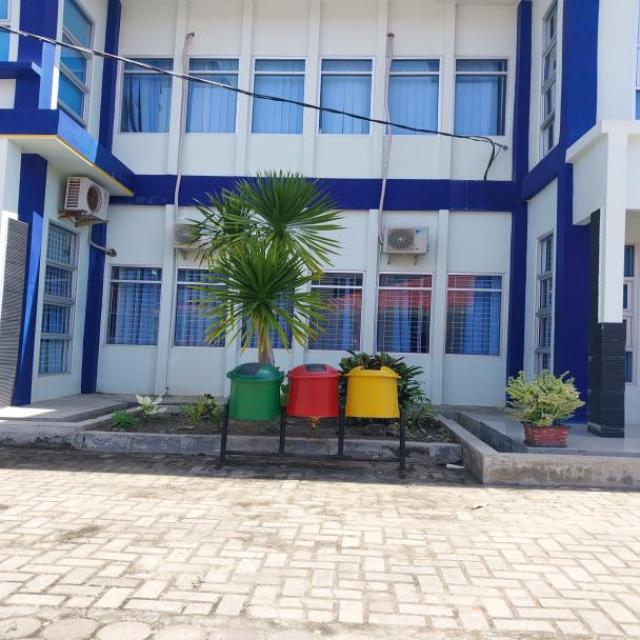dustbin ahead at: (216, 356, 412, 442)
plant ahead at: (497, 357, 583, 451)
